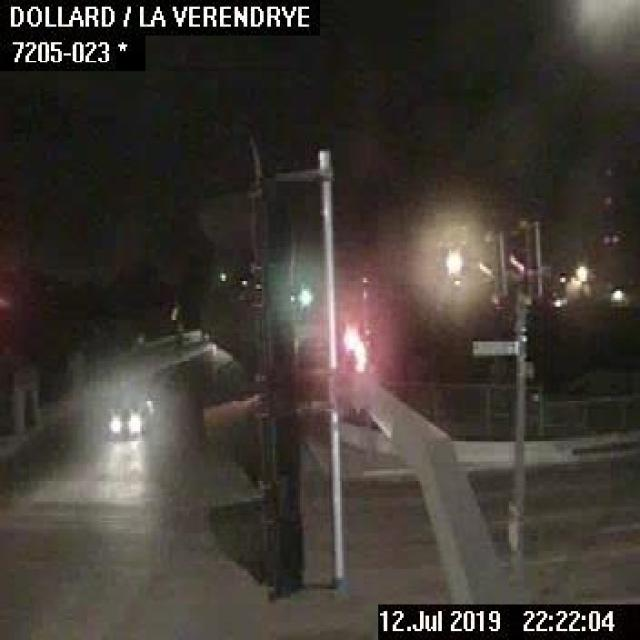vehicle: (106, 397, 154, 438)
